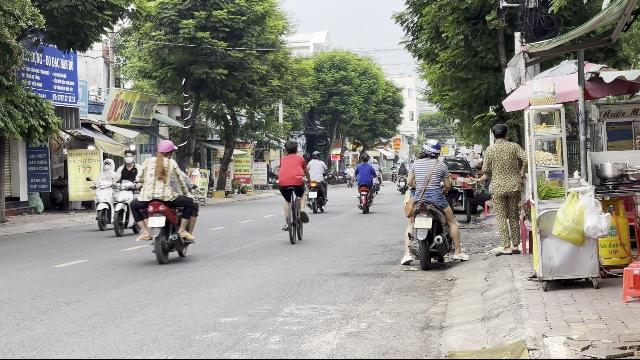helmet: (156, 138, 177, 158), (421, 138, 441, 158), (102, 158, 114, 170)
licenseplate: (414, 218, 432, 228), (148, 217, 164, 227)
motorcyclist: (399, 138, 463, 270), (134, 137, 198, 263), (88, 158, 120, 234)
nohelmet: (122, 148, 134, 164)
